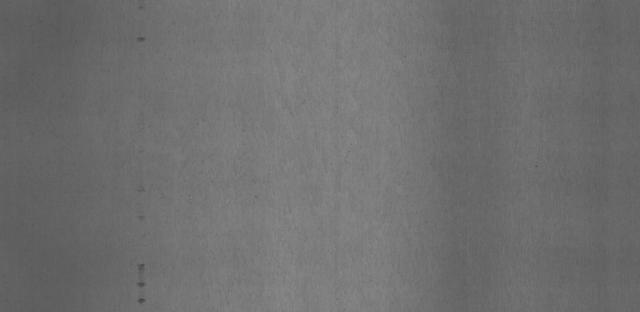oil_spot: (132, 261, 148, 306), (137, 181, 150, 228), (135, 31, 148, 48)
